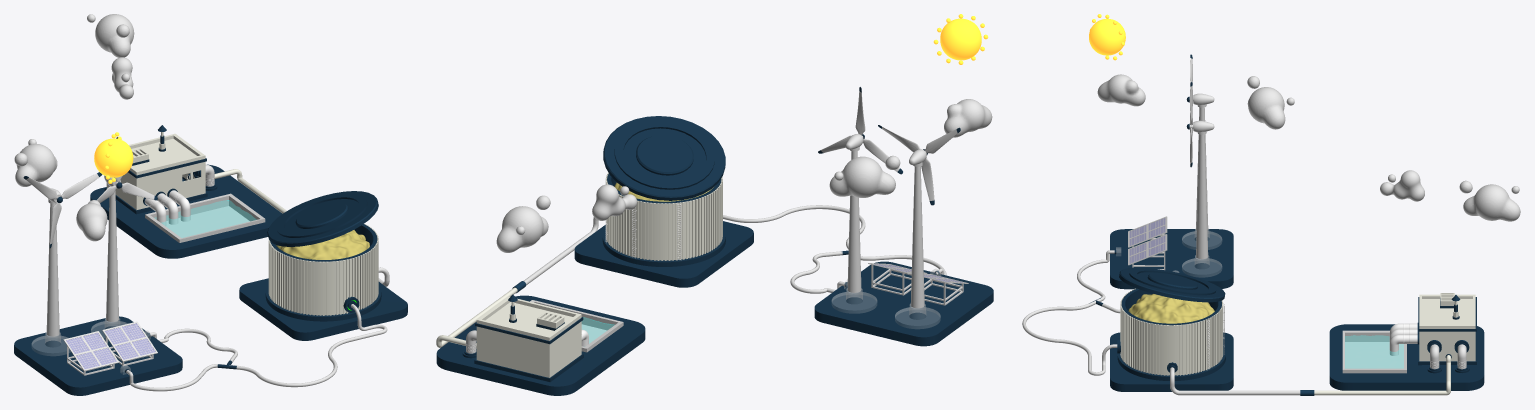
The model's file is BARAMTHR-COMP.glb.
3 views of the same model, side by side, from view 1: azimuth 30°, elevation 25°; view 2: azimuth 150°, elevation 25°; view 3: azimuth 270°, elevation 25° (orthographic). The views are drawn at different scales.
Visible parts, largest first — view 1: SandBattery, Cube.005, Cube.004, Cube.003, LantaiSB, TutupSB, Cube.002, domain, Cylinder.019, Cylinder.020, Pasir, Mball.006 (+14 smaller); view 2: Cube.005, TutupSB, Cube.003, SandBattery, Cube.004, LantaiSB, Cylinder.019, Mball.006, Cylinder.020, Mball.001, Cube, Mball.004 (+9 smaller); view 3: SandBattery, Cube.004, Cube.005, Cube.003, LantaiSB, Cube.002, TutupSB, Cylinder.020, Pasir, domain, Mball.001, Mball.006 (+9 smaller).
Part boxes in pixels (<box>): SandBattery: <box>268,224,378,315</box>; Cube.005: <box>14,316,182,395</box>; Cube.004: <box>90,164,282,258</box>; Cube.003: <box>104,125,207,214</box>; LantaiSB: <box>239,278,407,340</box>; TutupSB: <box>267,191,378,246</box>; Cube.002: <box>145,193,265,242</box>; domain: <box>155,200,256,237</box>; Cylinder.019: <box>32,203,70,355</box>; Cylinder.020: <box>91,190,127,341</box>; Pasir: <box>276,230,369,259</box>; Mball.006: <box>14,139,57,186</box>; Cube.005: <box>814,261,993,346</box>; TutupSB: <box>603,116,725,200</box>; Cube.003: <box>474,294,583,381</box>; SandBattery: <box>605,172,722,260</box>; Cube.004: <box>436,295,645,395</box>; LantaiSB: <box>574,221,753,287</box>; Cylinder.019: <box>895,166,940,328</box>; Mball.006: <box>829,155,900,197</box>; Cylinder.020: <box>832,151,876,313</box>; Mball.001: <box>496,195,550,252</box>; Cube: <box>933,14,988,64</box>; Mball.004: <box>944,99,992,137</box>; SandBattery: <box>1120,288,1223,375</box>; Cube.004: <box>1329,324,1484,390</box>; Cube.005: <box>1110,229,1233,289</box>; Cube.003: <box>1418,293,1476,365</box>; LantaiSB: <box>1110,332,1233,391</box>; Cube.002: <box>1342,330,1406,373</box>; TutupSB: <box>1119,267,1225,302</box>; Cylinder.020: <box>1182,134,1221,277</box>; Pasir: <box>1128,294,1214,323</box>; domain: <box>1345,335,1403,368</box>; Mball.001: <box>1459,180,1520,221</box>; Mball.006: <box>1247,76,1294,129</box>.
Size of what is drawn, in the model's own units: 7.5 by 5.16 by 9.71.
